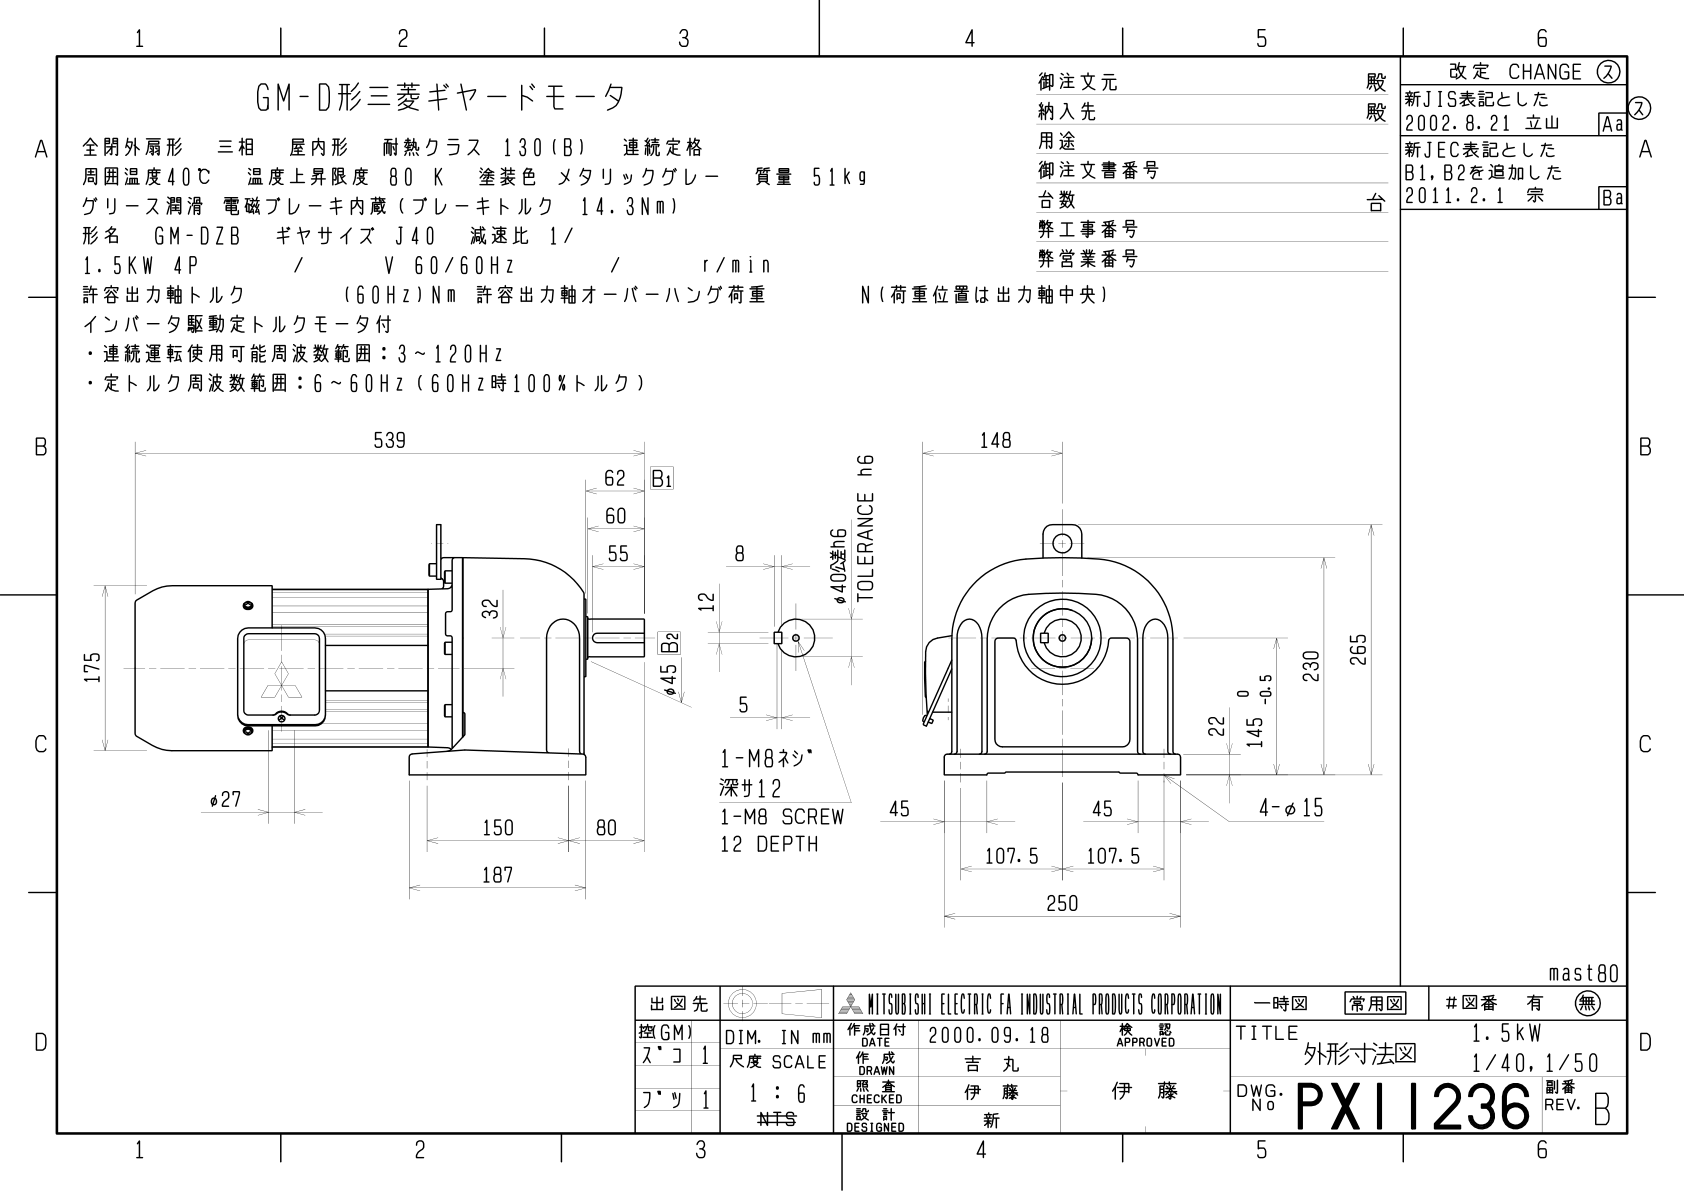GM_D_インバータ屋内_三相_脚: (64, 406, 1392, 963)
